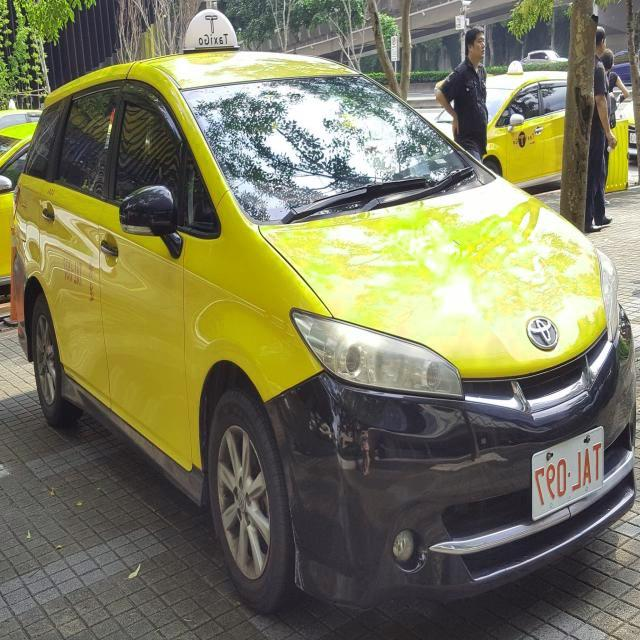taxi: (1, 2, 638, 634)
